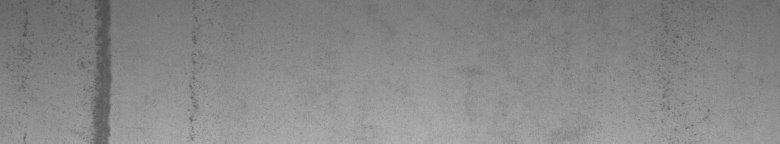hd: (6, 4, 117, 136)
